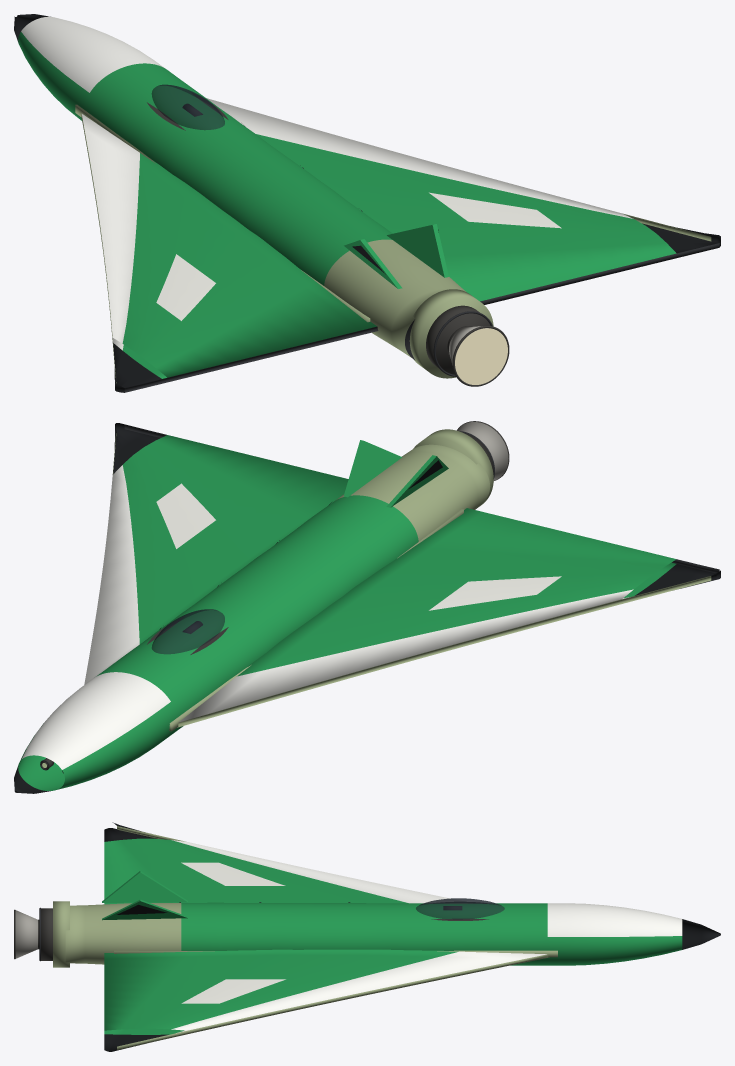
The model's file is Ship_Longwing_7.glb.
3 renders of one model, top to bottom at view 1: azimuth 30°, elevation 25°; view 2: azimuth 150°, elevation 25°; view 3: azimuth 270°, elevation 25°, orthographic. The views are drawn at different scales.
Parts seen in each view (by area): view 1: Wing_Left_LongDeltaAerofoil_BakedPaint, Fuselage_OrganicEllipsoidTaperedBody_BakedPaint, Wing_Right_LongDeltaAerofoil_BakedPaint, EngineEmitter, AftCollar_IntegratedSingleEngineBand, CanopyGlass_LowInsetDome, EngineBlock_AftDarkSingleEngineHousing, TailFin_Right_CantedStabilizer, TailFin_Left_CantedStabilizer, WingRoot_Left_EmbeddedShoulder; view 2: Fuselage_OrganicEllipsoidTaperedBody_BakedPaint, Wing_Left_LongDeltaAerofoil_BakedPaint, Wing_Right_LongDeltaAerofoil_BakedPaint, CanopyGlass_LowInsetDome, TailFin_Right_CantedStabilizer, AftCollar_IntegratedSingleEngineBand, EngineBell_Center_BroadBurnishedNozzle, TailFin_Left_CantedStabilizer, WingRoot_Left_EmbeddedShoulder; view 3: Fuselage_OrganicEllipsoidTaperedBody_BakedPaint, Wing_Right_LongDeltaAerofoil_BakedPaint, Wing_Left_LongDeltaAerofoil_BakedPaint, CanopyGlass_LowInsetDome, TailFin_Left_CantedStabilizer, AftCollar_IntegratedSingleEngineBand, EngineBell_Center_BroadBurnishedNozzle, TailFin_Right_CantedStabilizer, EngineBlock_AftDarkSingleEngineHousing, WingRoot_Right_EmbeddedShoulder.
Part boxes in pixels (x1,y1,x2,y2): Wing_Left_LongDeltaAerofoil_BakedPaint: [81, 114, 378, 392]; Fuselage_OrganicEllipsoidTaperedBody_BakedPaint: [14, 14, 465, 360]; Wing_Right_LongDeltaAerofoil_BakedPaint: [206, 98, 720, 304]; EngineEmitter: [455, 328, 507, 384]; AftCollar_IntegratedSingleEngineBand: [409, 289, 493, 378]; CanopyGlass_LowInsetDome: [151, 84, 224, 130]; EngineBlock_AftDarkSingleEngineHousing: [426, 305, 490, 374]; TailFin_Right_CantedStabilizer: [387, 224, 448, 277]; TailFin_Left_CantedStabilizer: [344, 239, 402, 288]; WingRoot_Left_EmbeddedShoulder: [75, 104, 370, 322]; Fuselage_OrganicEllipsoidTaperedBody_BakedPaint: [14, 444, 490, 793]; Wing_Left_LongDeltaAerofoil_BakedPaint: [177, 508, 720, 727]; Wing_Right_LongDeltaAerofoil_BakedPaint: [84, 423, 348, 684]; CanopyGlass_LowInsetDome: [152, 609, 224, 654]; TailFin_Right_CantedStabilizer: [344, 440, 402, 497]; AftCollar_IntegratedSingleEngineBand: [413, 429, 493, 509]; EngineBell_Center_BroadBurnishedNozzle: [457, 422, 508, 480]; TailFin_Left_CantedStabilizer: [386, 455, 448, 507]; WingRoot_Left_EmbeddedShoulder: [169, 509, 463, 731]; Fuselage_OrganicEllipsoidTaperedBody_BakedPaint: [65, 902, 720, 965]; Wing_Right_LongDeltaAerofoil_BakedPaint: [104, 949, 549, 1051]; Wing_Left_LongDeltaAerofoil_BakedPaint: [104, 822, 458, 904]; CanopyGlass_LowInsetDome: [416, 898, 504, 919]; TailFin_Left_CantedStabilizer: [102, 871, 187, 902]; AftCollar_IntegratedSingleEngineBand: [53, 901, 69, 967]; EngineBell_Center_BroadBurnishedNozzle: [15, 910, 37, 958]; TailFin_Right_CantedStabilizer: [102, 899, 187, 920]; EngineBlock_AftDarkSingleEngineHousing: [41, 908, 52, 960]; WingRoot_Right_EmbeddedShoulder: [114, 950, 557, 957].
Size of the model in its own units: 6.34 by 1.05 by 8.46.
